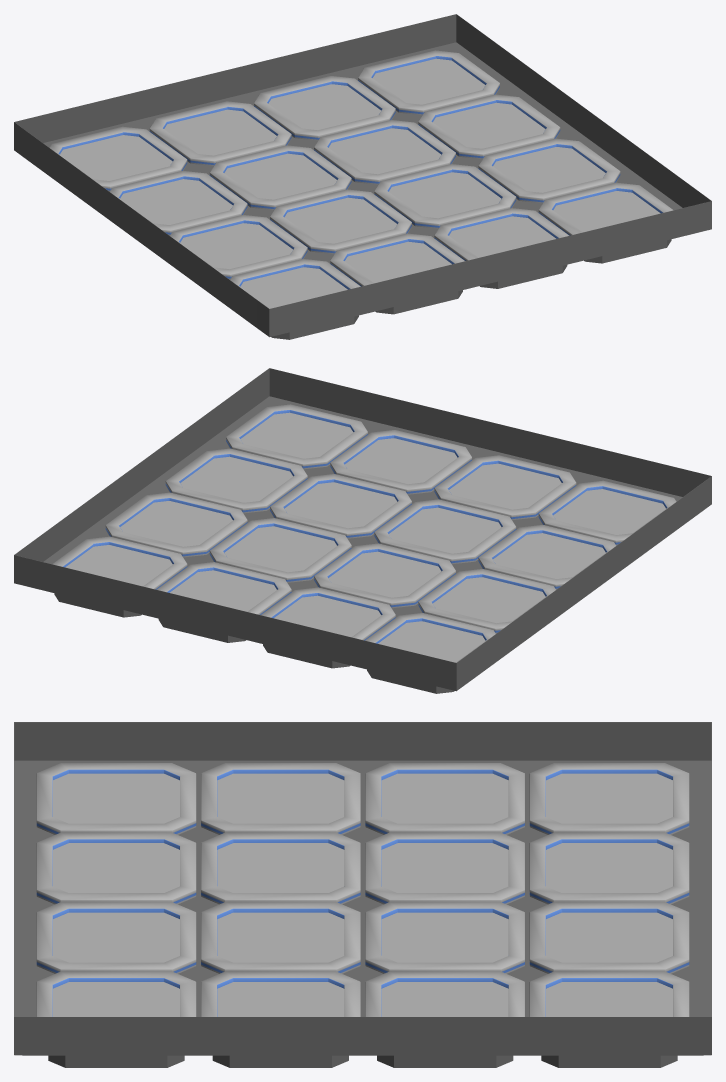
The model's file is [poo]_St4_Base_Test.fbx.
3 views of the same model, one above another, from view 1: azimuth 30°, elevation 25°; view 2: azimuth 150°, elevation 25°; view 3: azimuth 270°, elevation 25° (orthographic). The views are drawn at different scales.
Parts seen in each view (by area): view 1: STAGE4_Base, STAGE4_Position_34, STAGE4_Position_24, STAGE4_Position_12, STAGE4_Position_32, STAGE4_Position_23, STAGE4_Position_14, STAGE4_Position_22, STAGE4_Position_13, STAGE4_Position_33, STAGE4_Position_21, STAGE4_Position_31 (+37 smaller); view 2: STAGE4_Base, STAGE4_Position_24, STAGE4_Position_34, STAGE4_Position_42, STAGE4_Position_22, STAGE4_Position_33, STAGE4_Position_32, STAGE4_Position_44, STAGE4_Position_43, STAGE4_Position_23, STAGE4_Position_31, STAGE4_Position_21 (+37 smaller); view 3: STAGE4_Base, STAGE4_Position_13, STAGE4_Position_43, STAGE4_Position._11, STAGE4_Position_41, STAGE4_Position_21, STAGE4_Position_23, STAGE4_Position_31, STAGE4_Position_33, STAGE4_Position_12, STAGE4_Position_42, STAGE4_Position_22 (+37 smaller).
Boxes of the visible parts, x1,y1,x2,y2 form: STAGE4_Base: [14, 14, 711, 339]; STAGE4_Position_34: [478, 138, 620, 203]; STAGE4_Position_24: [418, 94, 560, 159]; STAGE4_Position_12: [149, 101, 291, 166]; STAGE4_Position_32: [270, 189, 411, 254]; STAGE4_Position_23: [314, 120, 455, 184]; STAGE4_Position_14: [358, 50, 499, 115]; STAGE4_Position_22: [209, 145, 351, 210]; STAGE4_Position_13: [254, 76, 395, 140]; STAGE4_Position_33: [374, 164, 516, 228]; STAGE4_Position_21: [109, 171, 247, 235]; STAGE4_Position_31: [170, 215, 307, 279]; STAGE4_Base: [14, 368, 711, 693]; STAGE4_Position_24: [105, 492, 247, 557]; STAGE4_Position_34: [165, 448, 307, 513]; STAGE4_Position_42: [434, 455, 576, 520]; STAGE4_Position_22: [314, 543, 455, 608]; STAGE4_Position_33: [270, 474, 411, 538]; STAGE4_Position_32: [374, 499, 516, 564]; STAGE4_Position_44: [226, 404, 367, 469]; STAGE4_Position_43: [330, 430, 471, 494]; STAGE4_Position_23: [209, 518, 351, 582]; STAGE4_Position_31: [478, 525, 616, 589]; STAGE4_Position_21: [418, 569, 555, 633]; STAGE4_Base: [14, 722, 711, 1067]; STAGE4_Position_13: [529, 902, 689, 973]; STAGE4_Position_43: [36, 902, 196, 973]; STAGE4_Position._11: [529, 763, 689, 834]; STAGE4_Position_41: [36, 763, 196, 834]; STAGE4_Position_21: [365, 763, 524, 834]; STAGE4_Position_23: [365, 902, 524, 973]; STAGE4_Position_31: [201, 763, 360, 834]; STAGE4_Position_33: [201, 902, 360, 973]; STAGE4_Position_12: [529, 832, 689, 904]; STAGE4_Position_42: [36, 832, 196, 904]; STAGE4_Position_22: [365, 832, 524, 904].
Bounding box in the file's own units: 1750 × 181 × 1750.
